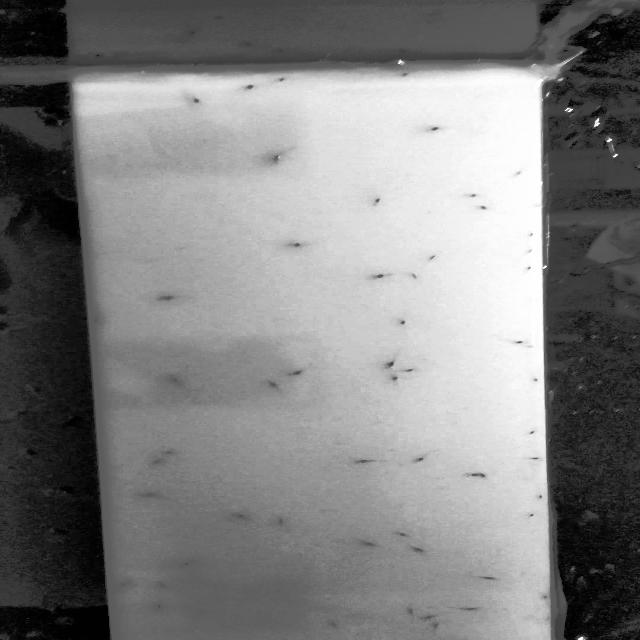shrimp: (281, 367, 309, 380), (265, 150, 289, 165), (86, 313, 105, 329), (425, 248, 447, 260), (235, 83, 264, 92), (470, 574, 500, 582), (367, 196, 390, 206), (176, 560, 195, 572), (264, 381, 281, 394), (136, 492, 166, 499), (230, 514, 256, 522), (399, 366, 422, 375), (526, 372, 542, 384), (168, 378, 188, 387), (381, 360, 399, 370), (409, 544, 425, 555), (529, 494, 546, 504), (423, 125, 444, 133), (502, 338, 526, 345), (393, 531, 414, 539), (188, 96, 206, 105), (274, 76, 292, 85), (406, 272, 422, 282), (272, 516, 284, 529), (427, 620, 440, 632), (357, 539, 379, 546), (463, 192, 482, 200), (153, 601, 168, 611), (462, 605, 480, 613), (374, 272, 394, 279), (520, 244, 537, 252), (524, 453, 541, 461), (520, 262, 536, 270), (387, 374, 403, 382), (412, 456, 428, 464), (415, 615, 436, 621), (398, 318, 409, 329), (355, 459, 379, 464), (327, 620, 339, 630), (286, 243, 305, 249), (158, 582, 172, 590), (150, 456, 161, 466), (523, 512, 535, 521), (475, 472, 490, 479), (161, 294, 178, 300), (526, 428, 536, 438), (167, 445, 177, 455), (476, 203, 487, 212), (405, 608, 416, 616), (401, 70, 411, 78), (468, 470, 476, 480), (117, 582, 128, 589), (514, 171, 526, 177), (194, 608, 206, 614), (525, 344, 539, 348)
